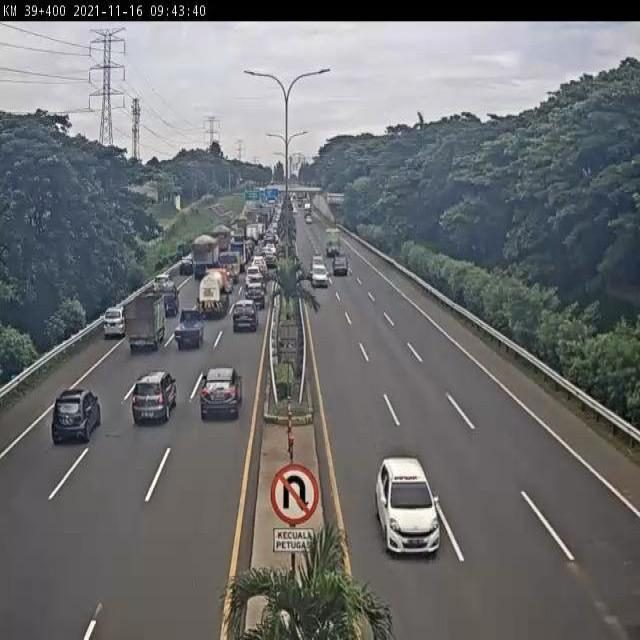car: (374, 449, 444, 562), (46, 384, 105, 449), (129, 364, 184, 428), (194, 363, 245, 429), (173, 308, 207, 353), (229, 296, 261, 335), (101, 305, 128, 343), (155, 283, 180, 316), (242, 281, 267, 312), (310, 260, 329, 291), (151, 272, 173, 297), (244, 263, 264, 285), (178, 256, 195, 279), (246, 275, 267, 293), (332, 256, 348, 277), (252, 253, 267, 272), (264, 251, 278, 268)
small truck: (115, 293, 168, 360), (197, 264, 234, 319), (215, 249, 242, 287), (323, 225, 344, 256)
truck-m-: (187, 233, 221, 284), (207, 225, 229, 258)
